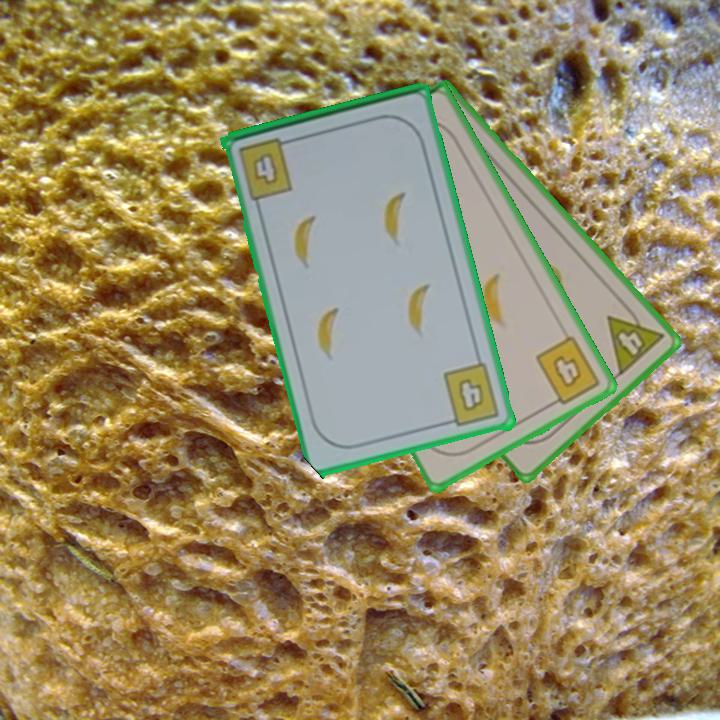4b: (532, 332, 604, 411), (440, 360, 503, 430), (235, 133, 297, 203)
4p: (603, 298, 668, 379)
